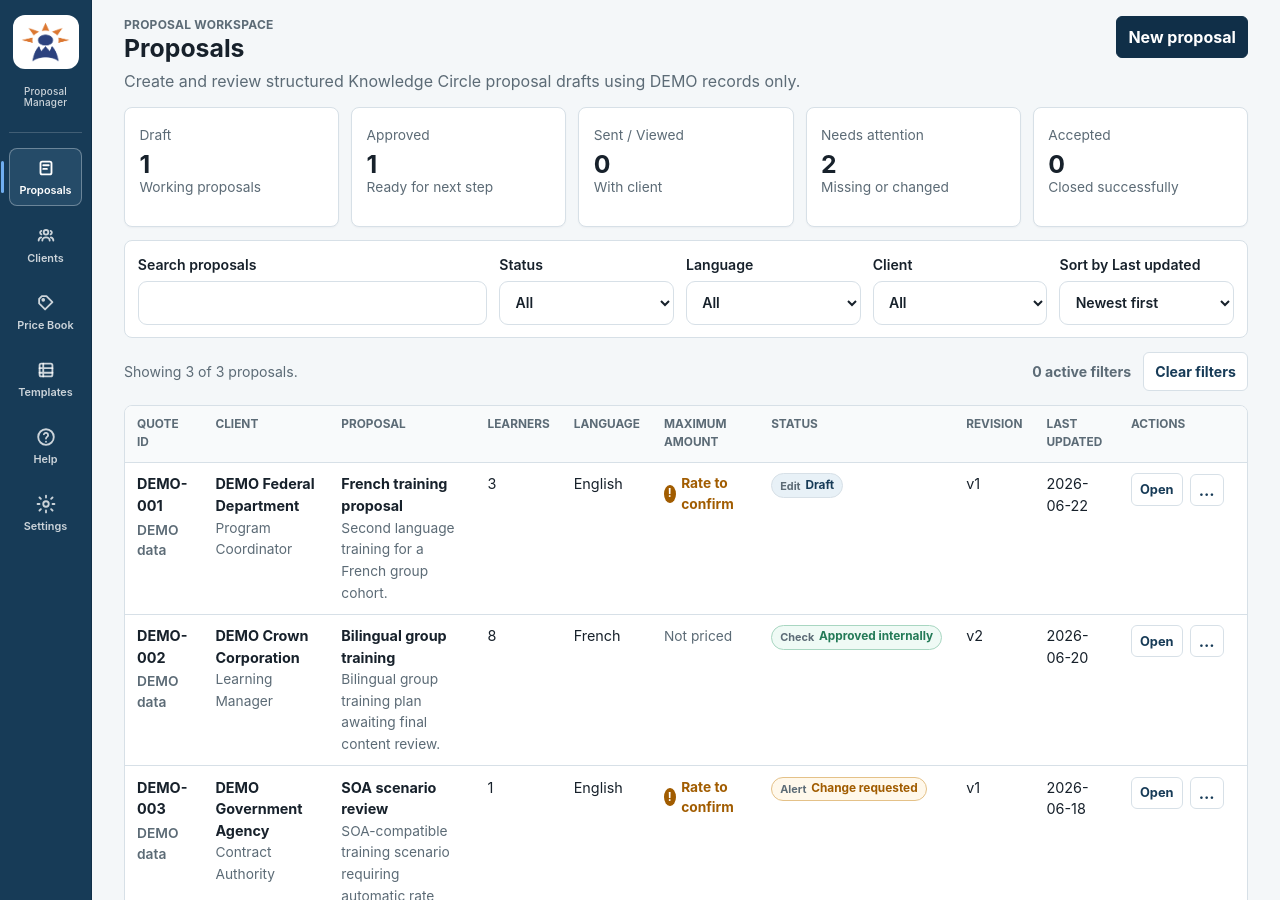
Test: App Phase 2A prototype › opens the New Proposal prototype
Click the button "New proposal" at {"x": 1182, "y": 37}, box x1=1116 y1=16 x2=1248 y2=58
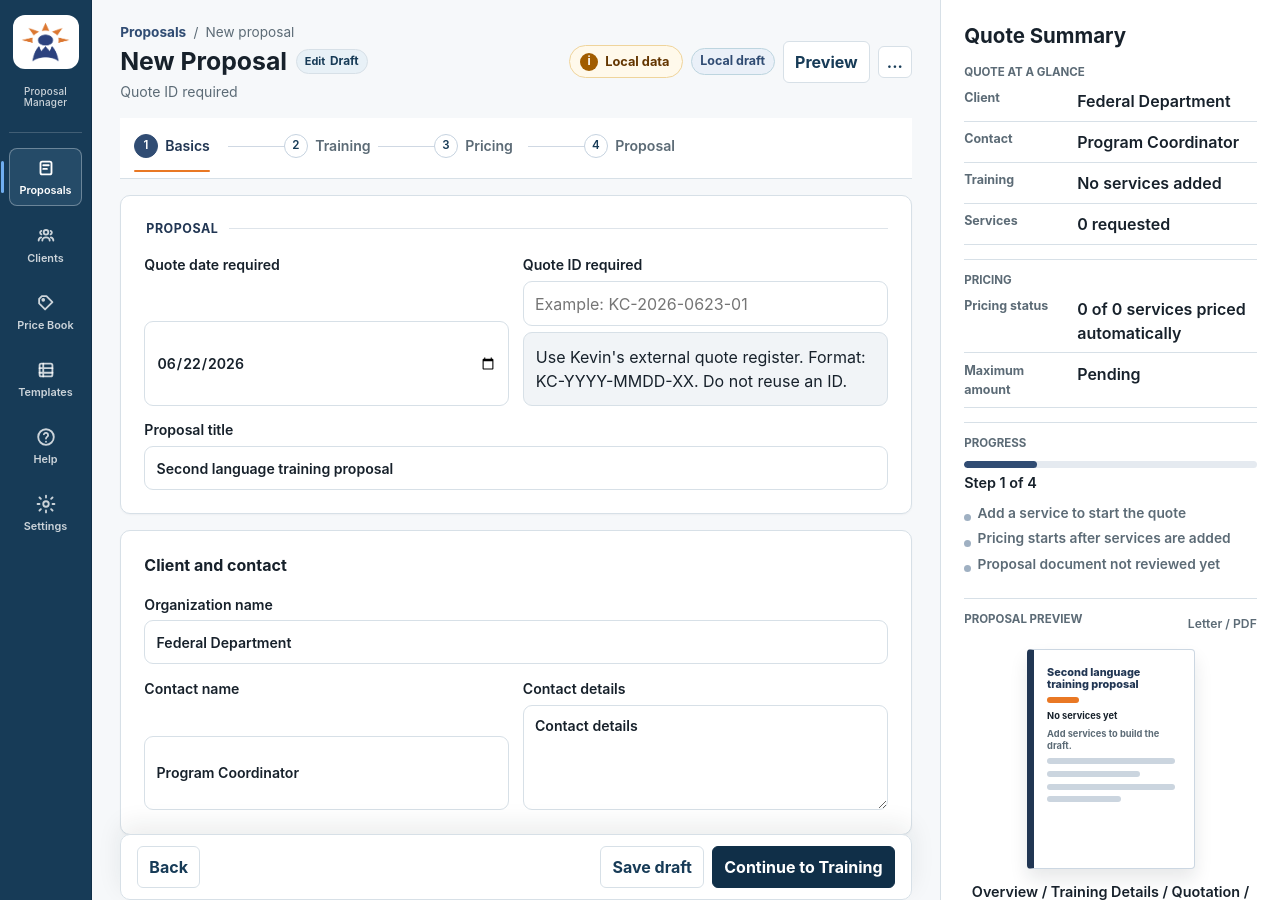
Check: the heading "New Proposal" is shown, box x1=120 y1=47 x2=287 y2=77
Check: the heading "Quote Summary" is shown, box x1=964 y1=23 x2=1126 y2=48
